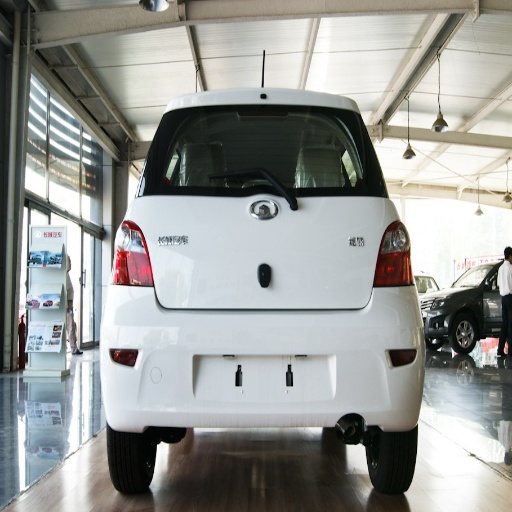back_bumper: (100, 285, 419, 430)
tailgate: (132, 195, 184, 305)
trunk: (138, 194, 389, 310)
